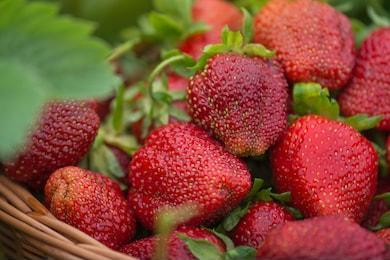Fresa: (123, 118, 257, 238), (266, 108, 382, 231), (179, 43, 296, 162), (42, 162, 138, 255)
